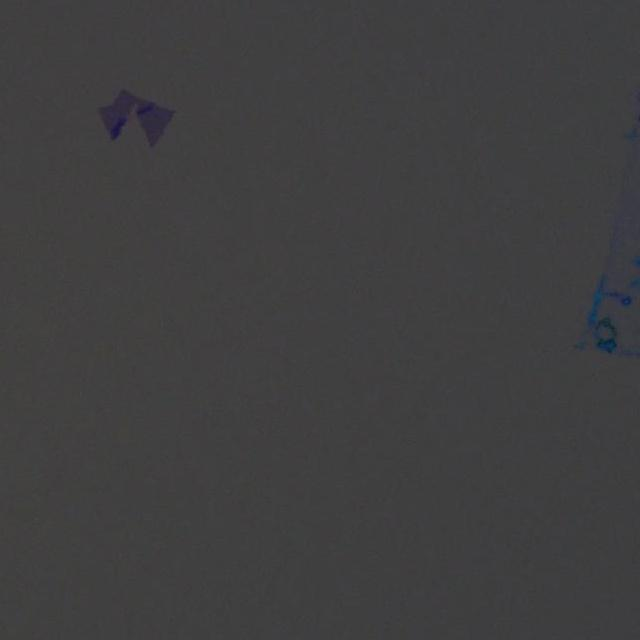monolayer-eWW4: (94, 86, 148, 130), (140, 106, 174, 148)
